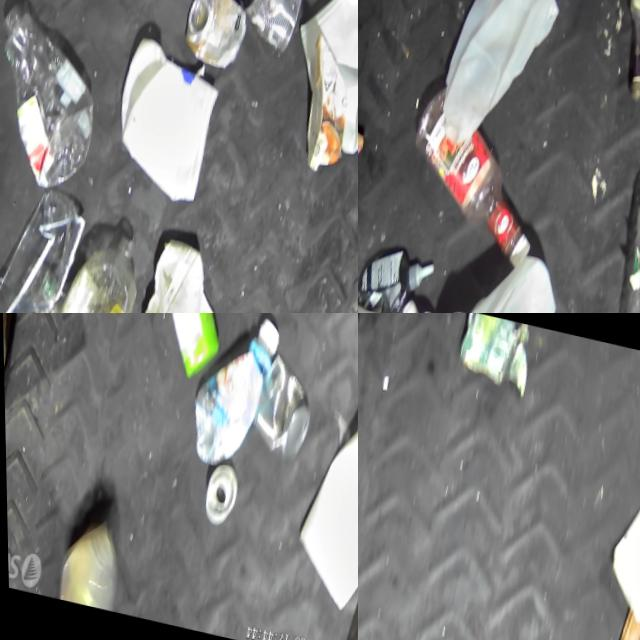can: (243, 352, 320, 464), (451, 313, 538, 396), (178, 0, 252, 72), (234, 0, 309, 57)
milk_jug: (431, 0, 568, 158), (417, 233, 566, 313)
non_white_jug: (117, 313, 241, 378)
plastic_bottle: (0, 3, 110, 196), (607, 151, 640, 313), (609, 0, 640, 103)
